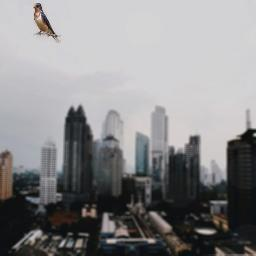Swallow: (33, 3, 61, 43)
